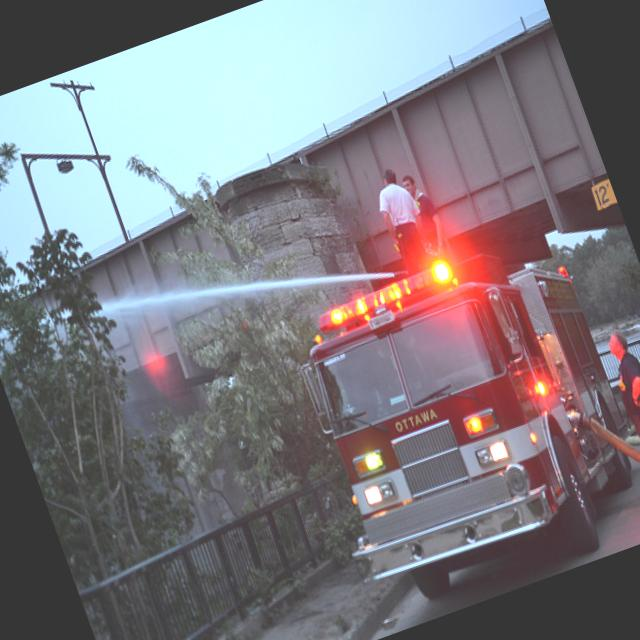Vehicle: (271, 227, 640, 629)
